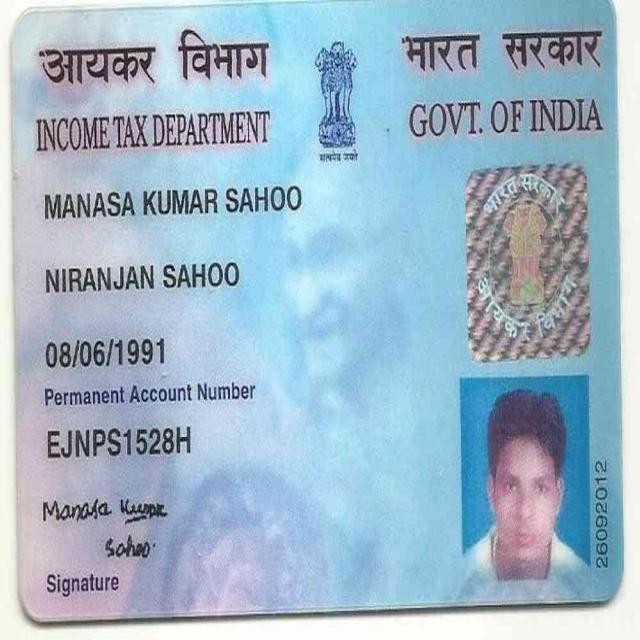pan_card: (22, 5, 613, 607)
